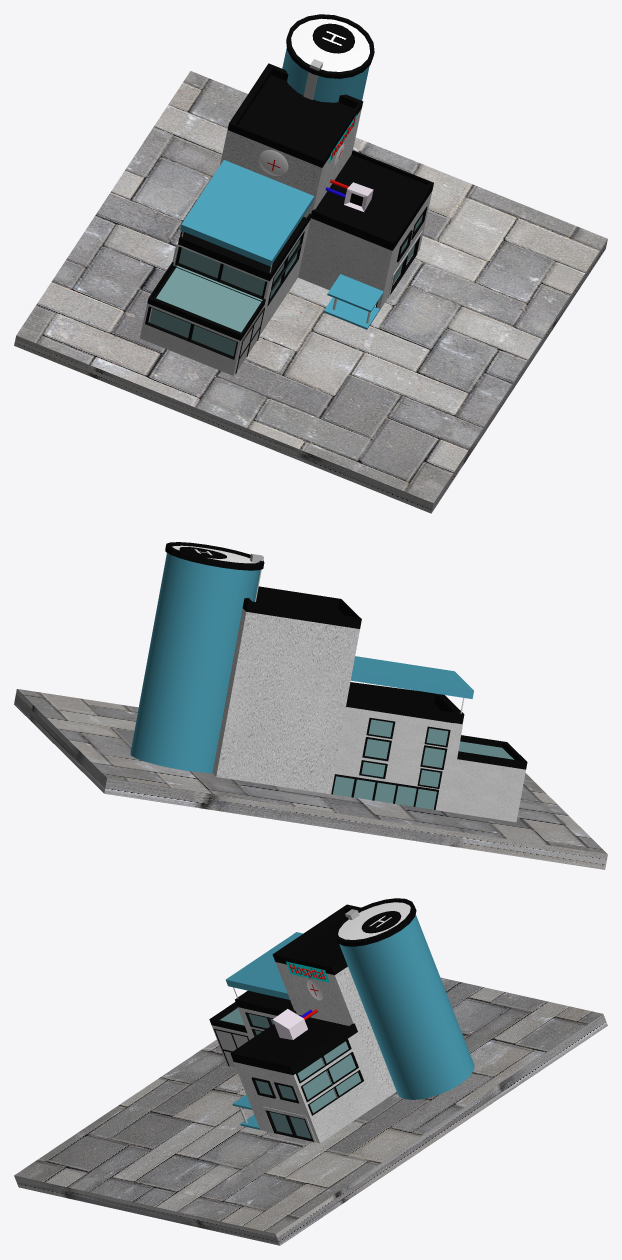
File: asset.glb
3 renders of one model, top to bottom at view 1: azimuth 30°, elevation 25°; view 2: azimuth 150°, elevation 25°; view 3: azimuth 270°, elevation 25°, orthographic. The views are drawn at different scales.
Visible parts, largest first — view 1: Cube, Hospital.001, Hospital.013, Hospital.014, Hospital.006, Hospital.015, Hospital.022, Hospital.016, Hospital.019, Hospital.021, Hospital.020, Hospital (+4 smaller); view 2: Cube, Hospital.013, Hospital.020, Hospital.022, Hospital.006, Hospital.021, Hospital.001, Hospital.014, Hospital.016, Hospital.018, Hospital; view 3: Cube, Hospital.020, Hospital.013, Hospital.015, Hospital.006, Hospital.014, Hospital.016, Hospital.001, Hospital.019, Hospital.018, Hospital.021, Hospital.007 (+2 smaller).
Boxes of the visible parts, x1,y1,x2,y2 form: Cube: (14, 71, 607, 513); Hospital.001: (180, 160, 383, 312); Hospital.013: (220, 108, 432, 309); Hospital.014: (227, 63, 363, 167); Hospital.006: (149, 214, 422, 356); Hospital.015: (311, 150, 433, 250); Hospital.022: (140, 220, 310, 375); Hospital.016: (145, 206, 427, 373); Hospital.019: (291, 18, 369, 71); Hospital.021: (178, 213, 311, 281); Hospital.020: (282, 47, 369, 102); Hospital: (147, 262, 265, 340); Cube: (14, 689, 607, 869); Hospital.013: (212, 608, 359, 793); Hospital.020: (130, 553, 260, 773); Hospital.022: (330, 693, 525, 822); Hospital.006: (333, 719, 514, 809); Hospital.021: (346, 682, 464, 724); Hospital.001: (350, 656, 473, 698); Hospital.014: (242, 586, 361, 628); Hospital.016: (331, 717, 450, 809); Hospital.018: (165, 542, 264, 570); Hospital: (457, 735, 527, 769); Cube: (14, 977, 607, 1245); Hospital.020: (339, 914, 474, 1099); Hospital.013: (234, 962, 396, 1143); Hospital.015: (230, 1010, 357, 1074); Hospital.006: (220, 1008, 361, 1138); Hospital.014: (272, 904, 360, 975); Hospital.016: (214, 1012, 363, 1141); Hospital.001: (225, 932, 303, 1109); Hospital.019: (338, 902, 410, 939); Hospital.018: (333, 898, 416, 946); Hospital.021: (235, 990, 293, 1015); Hospital.007: (272, 1009, 307, 1039).
Bounding box in the file's own units: 31.93 × 17.97 × 30.31.
24 materials, 9 textured.
